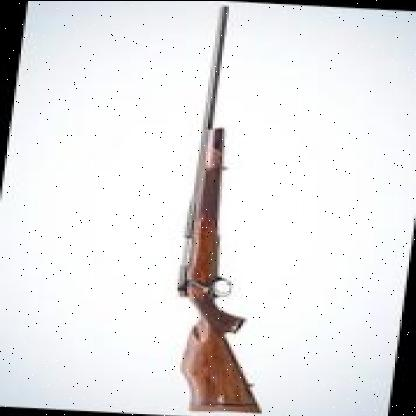rifle: (152, 4, 318, 416)
